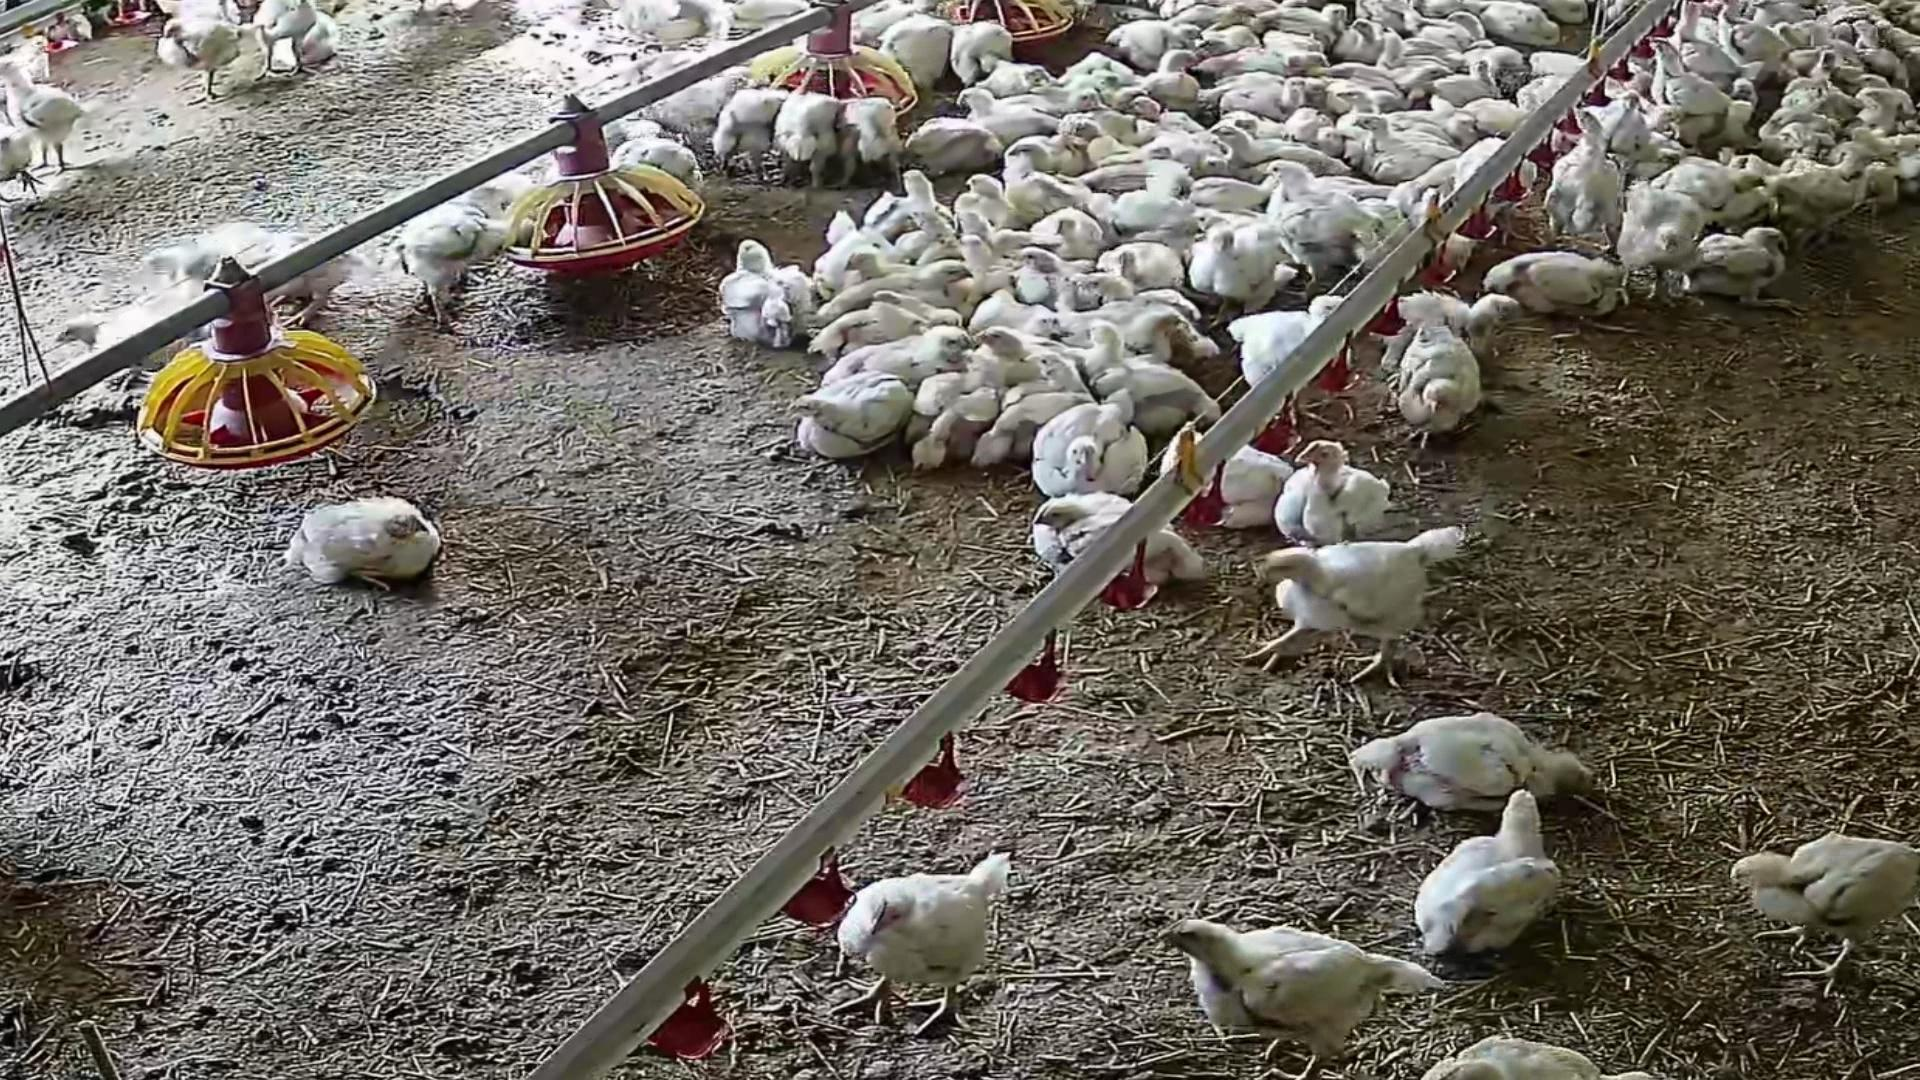poussin: (1150, 882, 1406, 1079), (1695, 816, 1920, 1013), (1250, 521, 1502, 694), (1345, 703, 1614, 832), (807, 862, 1040, 1006), (1393, 793, 1589, 961), (270, 479, 467, 621), (1360, 311, 1528, 469), (1007, 483, 1218, 607), (1269, 430, 1425, 575), (148, 229, 373, 316), (1396, 1015, 1689, 1080), (55, 286, 258, 376), (1153, 417, 1294, 534), (1668, 225, 1824, 328), (386, 203, 514, 326), (0, 58, 133, 171), (705, 225, 815, 363), (1258, 160, 1378, 284), (1487, 235, 1630, 339), (948, 320, 1038, 485), (1226, 293, 1357, 404), (1034, 402, 1171, 506), (1774, 140, 1887, 257), (142, 3, 255, 119), (773, 369, 913, 462), (1087, 331, 1212, 434), (996, 348, 1104, 465), (1543, 124, 1634, 256), (1404, 276, 1520, 372), (1191, 214, 1288, 320), (1618, 181, 1710, 291), (825, 290, 976, 352), (820, 262, 977, 322), (1064, 298, 1204, 364), (1662, 73, 1778, 150), (832, 326, 976, 388), (253, 0, 345, 94), (1213, 123, 1353, 181), (829, 91, 909, 189), (1716, 0, 1801, 87), (611, 131, 721, 196), (1665, 152, 1767, 222), (861, 166, 951, 244), (836, 252, 975, 302), (1640, 32, 1724, 115), (1352, 113, 1458, 178), (778, 88, 841, 195), (1084, 266, 1205, 320), (0, 111, 57, 223), (942, 203, 1069, 252), (720, 83, 786, 177), (1340, 57, 1452, 109), (1106, 15, 1208, 73), (1782, 41, 1855, 117), (1597, 80, 1664, 164), (1258, 0, 1356, 55), (985, 289, 1077, 347), (955, 87, 1055, 140), (1137, 46, 1211, 117), (1097, 235, 1184, 294), (943, 21, 1018, 90), (1478, 0, 1573, 54), (882, 16, 952, 88), (1220, 69, 1312, 123), (915, 113, 1000, 170), (1749, 100, 1844, 150), (1018, 249, 1105, 301), (1381, 24, 1461, 76), (1000, 132, 1085, 181), (957, 236, 1029, 291), (1428, 62, 1513, 107), (1853, 20, 1911, 84), (1127, 96, 1205, 138), (1855, 83, 1912, 138), (1668, 0, 1729, 51), (899, 203, 957, 256), (1874, 7, 1920, 69), (1513, 73, 1577, 115), (961, 166, 1014, 218), (1323, 75, 1385, 119), (1333, 13, 1387, 61), (825, 244, 891, 278), (1437, 9, 1498, 46), (992, 58, 1059, 90), (1767, 17, 1824, 54), (1847, 67, 1902, 102), (1535, 51, 1589, 80), (1072, 84, 1113, 113)
